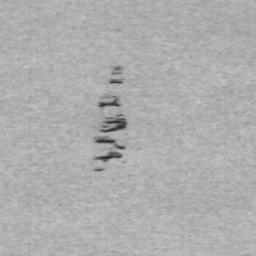Secondary rust skin: (94, 116, 128, 163), (98, 96, 122, 109), (108, 78, 124, 85)
